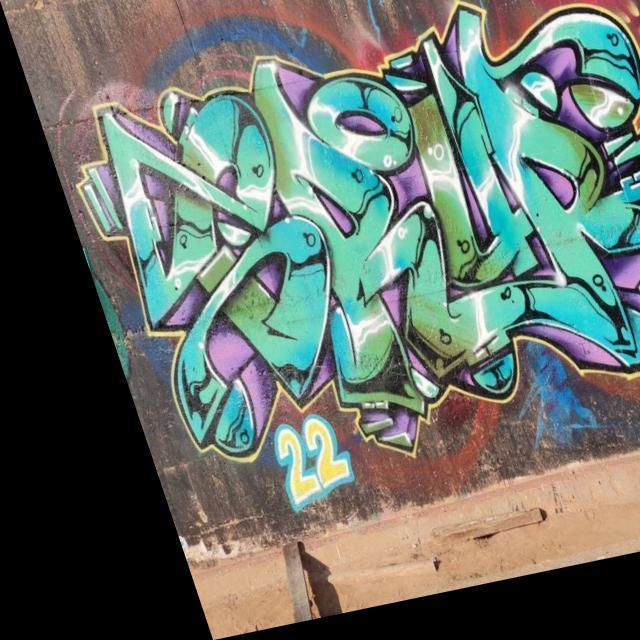-: (24, 0, 640, 540), (230, 404, 331, 523), (596, 12, 640, 168)
